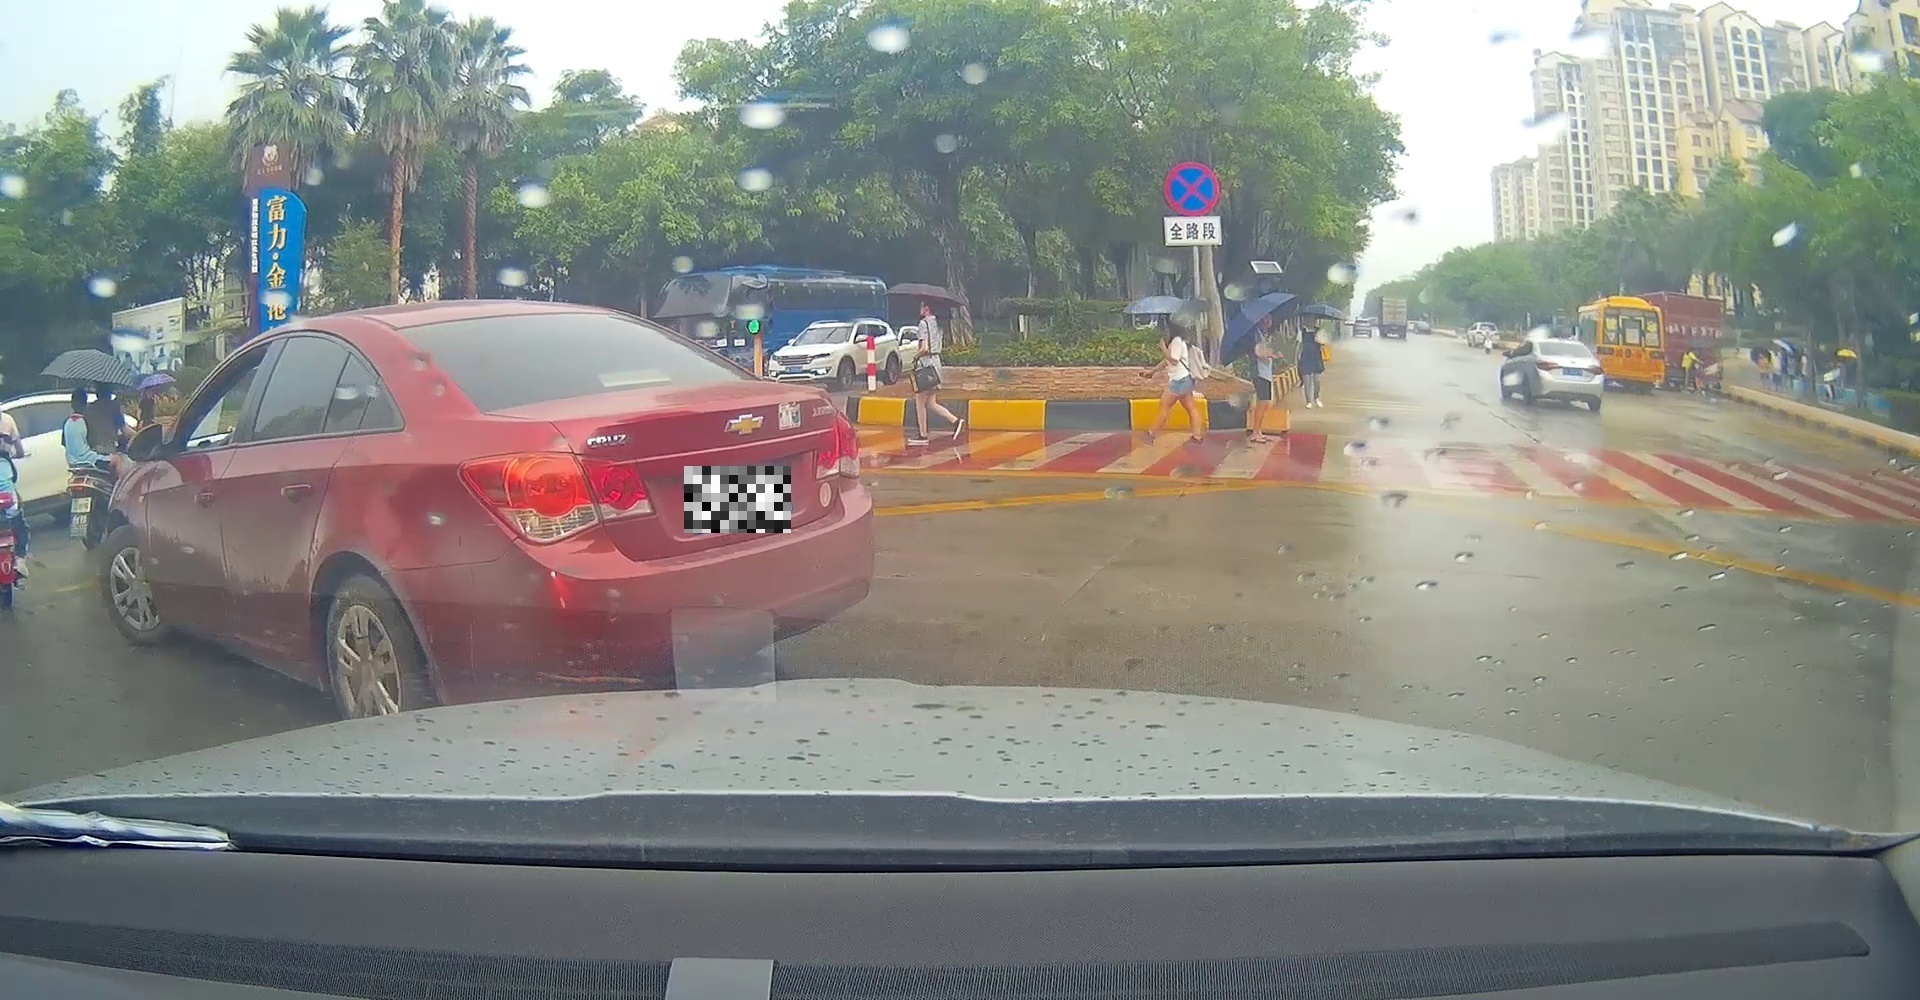L_light: (458, 451, 653, 544), (1535, 360, 1562, 371)
R_light: (815, 409, 858, 478), (1585, 364, 1603, 376)
T_light: (599, 368, 670, 388), (1558, 343, 1570, 346)
day-no: (376, 302, 874, 706), (1531, 340, 1604, 411)
plate_1: (684, 466, 791, 533)
